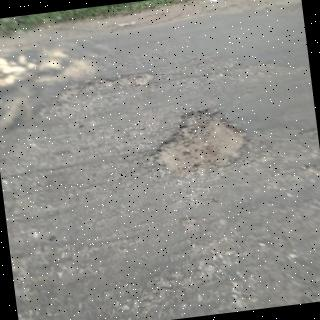pothole: (156, 108, 249, 177)
